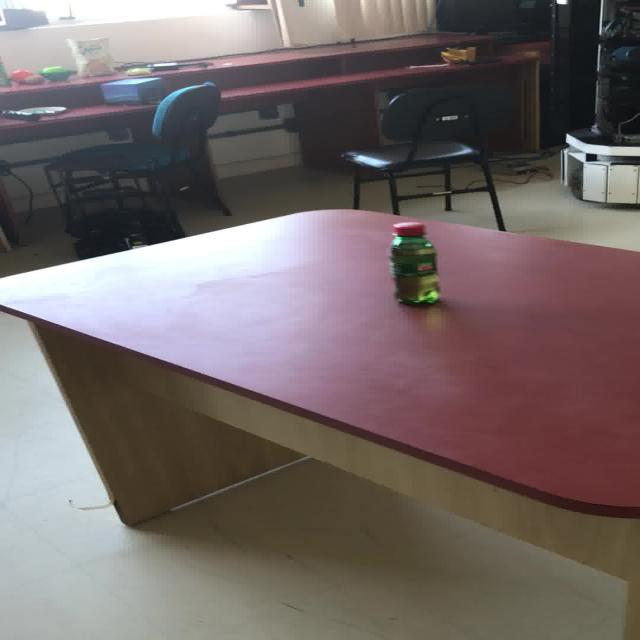guarana: (387, 221, 439, 305)
